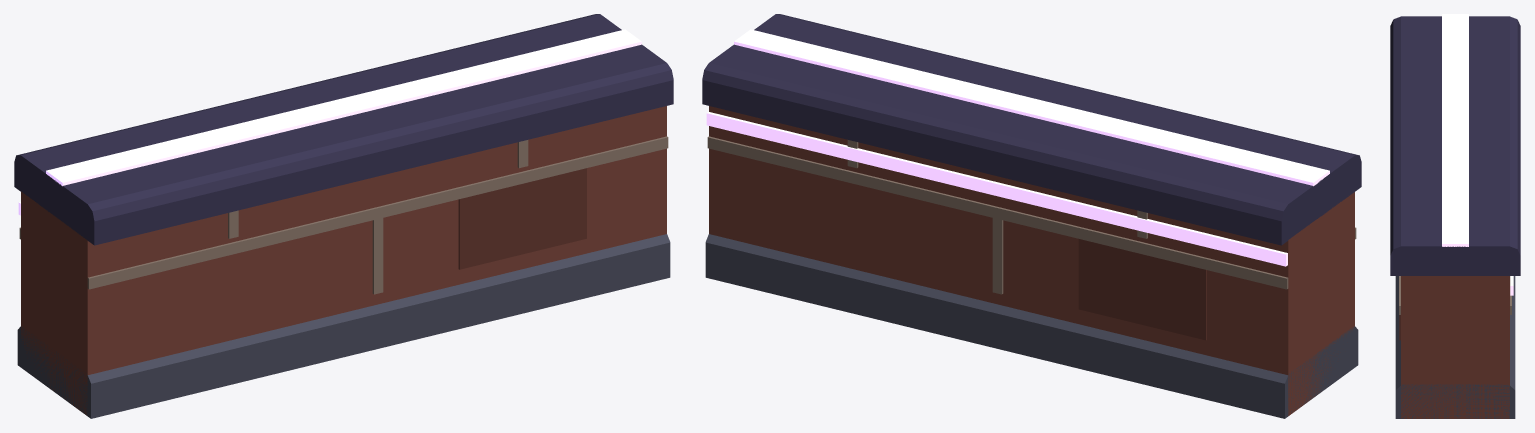
Rendered from wand_sockel.glb.
3 views of the same model, side by side, from view 1: azimuth 30°, elevation 25°; view 2: azimuth 150°, elevation 25°; view 3: azimuth 270°, elevation 25° (orthographic). The views are drawn at different scales.
Parts seen in each view (by area): view 1: wand_sockel; view 2: wand_sockel; view 3: wand_sockel.
Part boxes in pixels (bbox=[...]): wand_sockel: bbox=[14, 14, 673, 418]; wand_sockel: bbox=[702, 14, 1361, 418]; wand_sockel: bbox=[1390, 14, 1520, 418].
Bounding box in the file's own units: 1 × 0.355 × 0.24.
